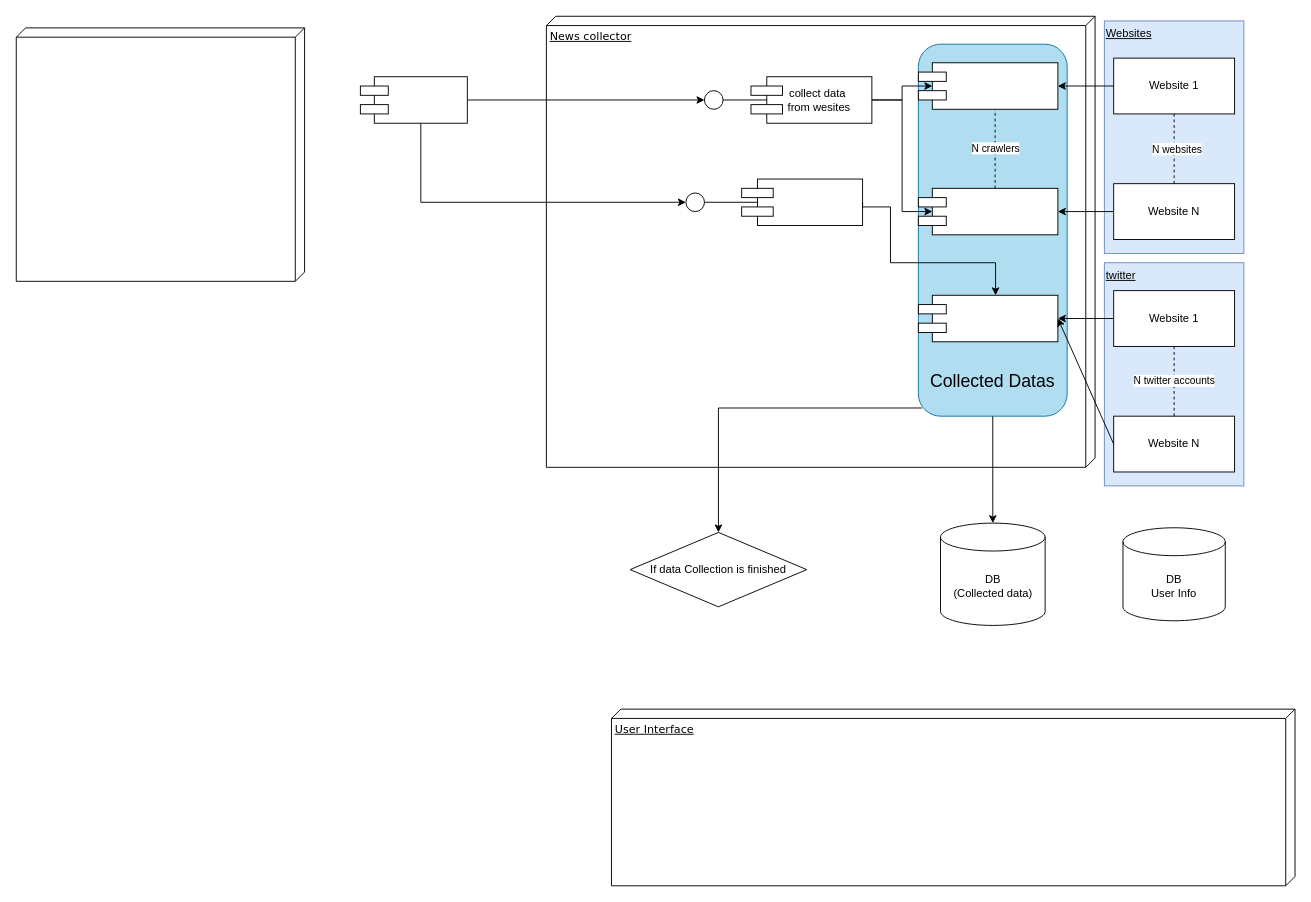
This 1311x902 diagram has some shape labels left out. Each missing label, with the centre of its shape:
"collect data from twitter accounts" goes at [810,202].
"crawler for website 1" goes at [994,85].
"crawler for website N" goes at [994,211].
"data collector for twitter accounts" goes at [994,318].
"LSH filter" goes at [160,154].
"scheduler (once a day)" goes at [420,99].
